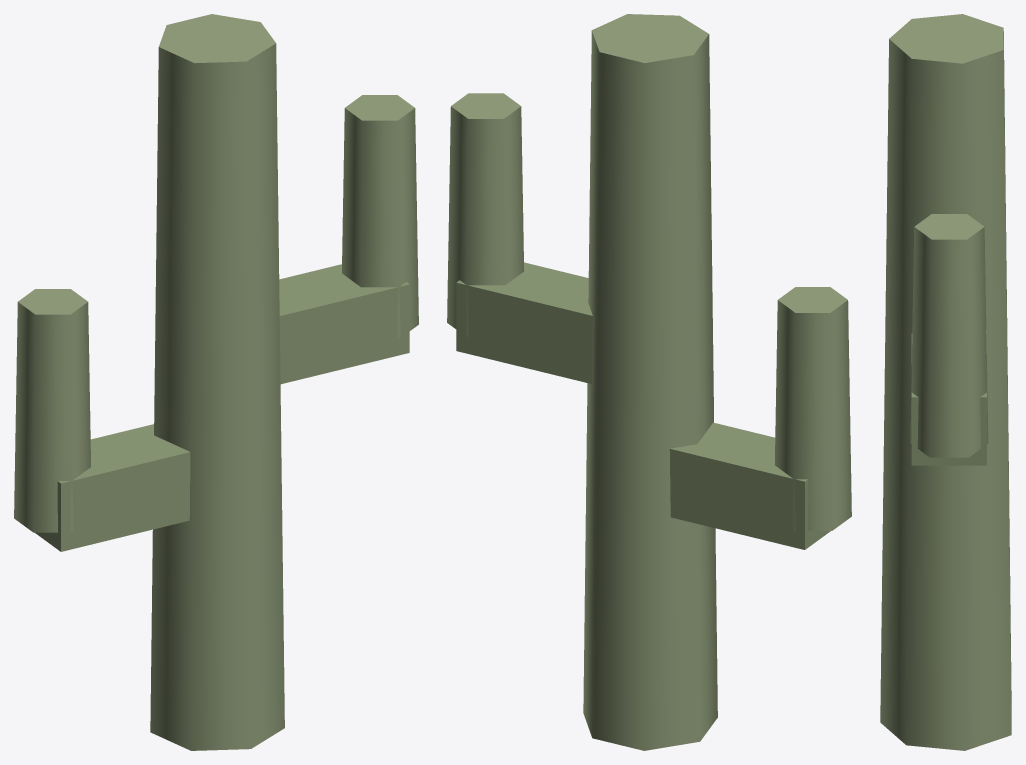
3 renders of one model, left to right at view 1: azimuth 30°, elevation 25°; view 2: azimuth 150°, elevation 25°; view 3: azimuth 270°, elevation 25°, orthographic.
Parts seen in each view (by area): view 1: Visual; view 2: Visual; view 3: Visual.
Part boxes in pixels (box(x1,y1,x2,y2)): Visual: box(14, 14, 418, 750); Visual: box(447, 14, 851, 750); Visual: box(880, 14, 1011, 750).
Bounding box in the file's own units: 3.54 × 6 × 1.05.
